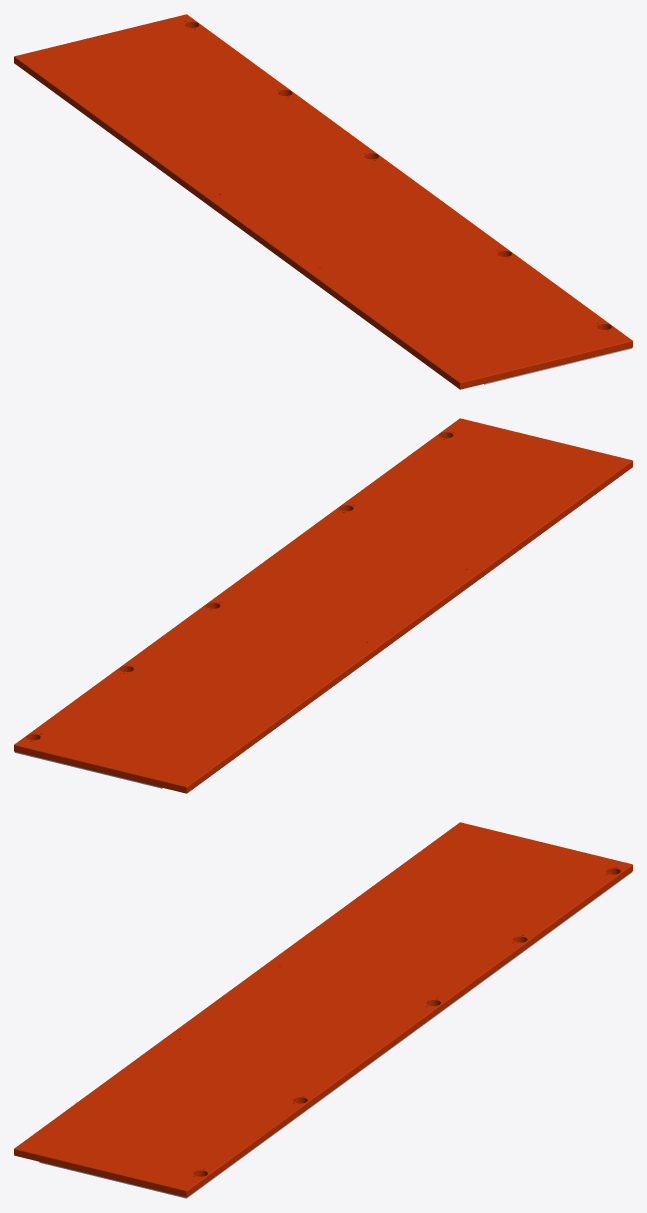
File: H219-L48-GLACE-Dr v2.fbx
The picture shows the model from 3 angles, top to bottom: view 1: azimuth 30°, elevation 25°; view 2: azimuth 150°, elevation 25°; view 3: azimuth 330°, elevation 25°; orthographic projection.
Parts seen in each view (by area): view 1: Body1; view 2: Body1; view 3: Body1, Body3.
Boxes of the visible parts, x1,y1,x2,y2 form: Body1: (14,14,632,389); Body1: (14,418,632,793); Body1: (14,822,632,1197); Body3: (39,872,632,1198).
Size of the model in its own units: 481 by 42 by 2146.
